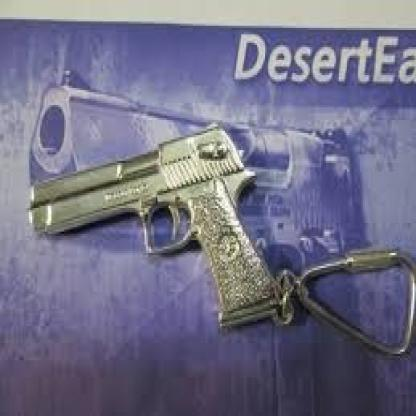Pistol: (21, 112, 280, 376)
